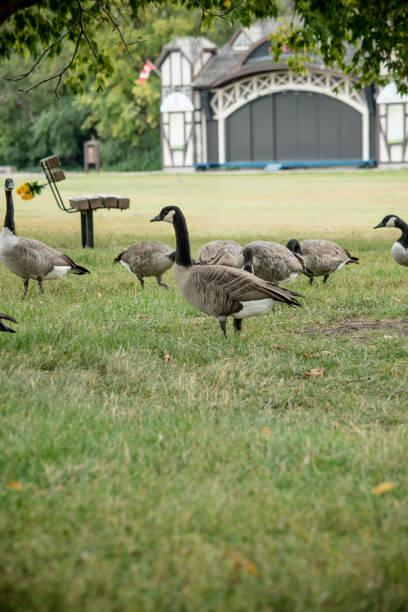Canadian-Goose: (160, 203, 298, 332), (0, 176, 90, 299), (284, 230, 361, 286), (243, 235, 303, 283), (115, 238, 177, 280), (373, 200, 408, 269), (196, 228, 241, 265)
